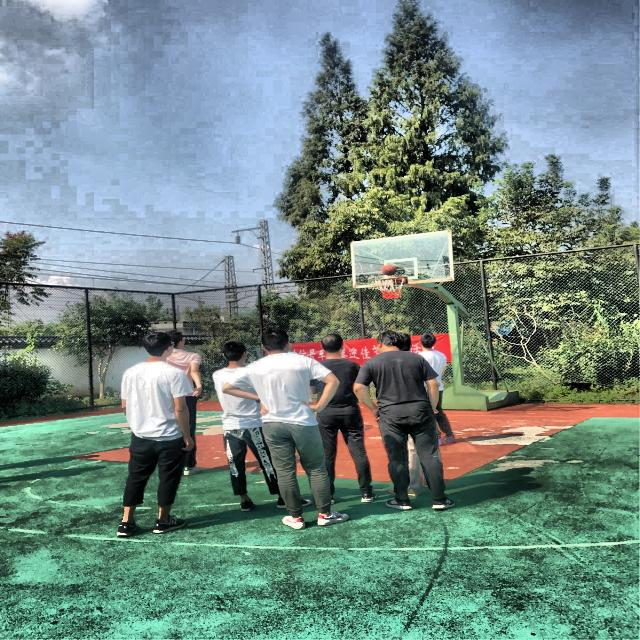rim: (374, 277, 406, 299)
